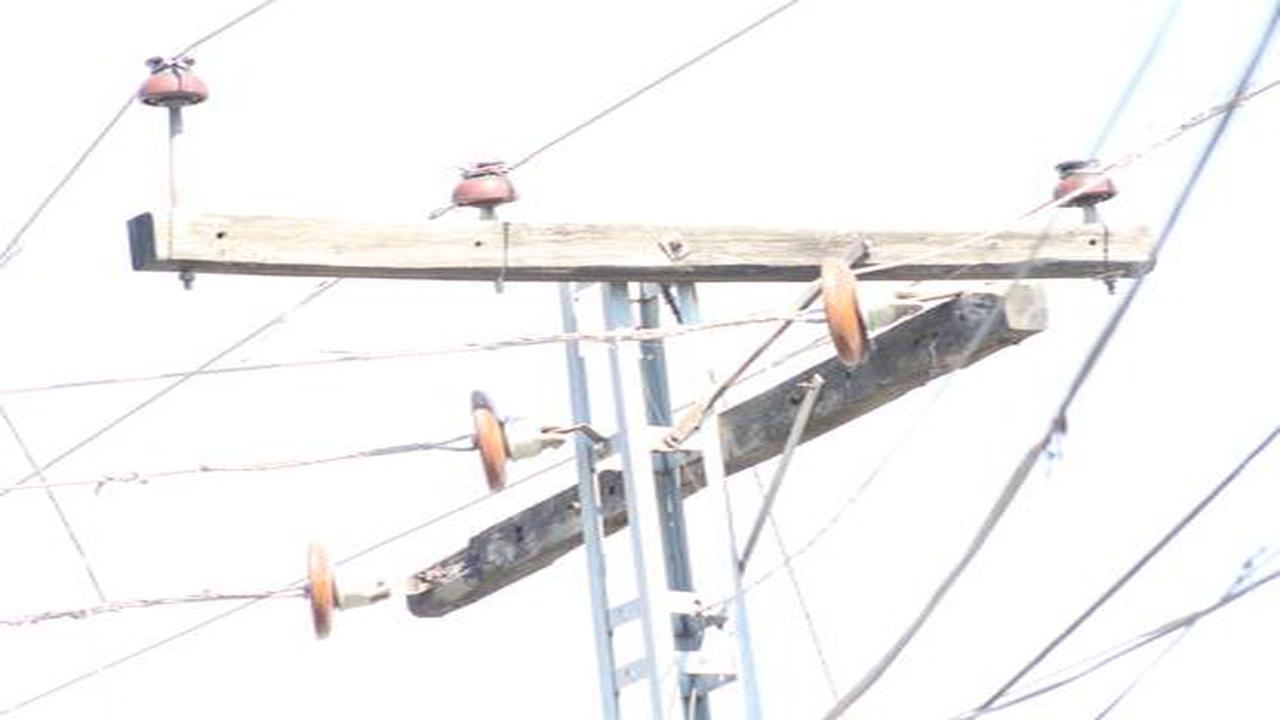insulator_disc: (819, 248, 916, 370), (467, 379, 554, 502), (303, 540, 369, 644)
insulator_pin: (134, 47, 215, 113), (1053, 152, 1123, 210), (448, 155, 519, 208)
